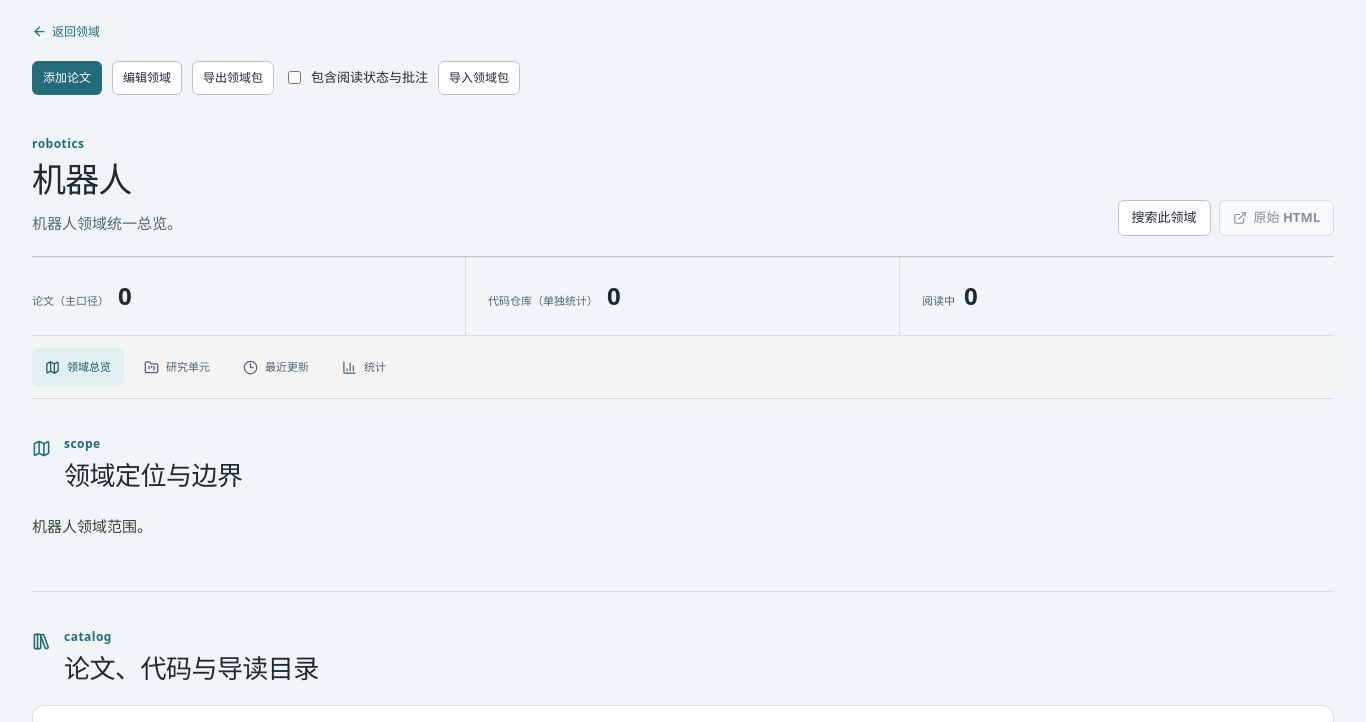
it: DomainDetailPage › uses empty-query aggregation, reports covered assets, and loads more pages
Step 1. Click the tab "研究单元" → (177, 367), box [131,348,223,386]
(page scrolled)
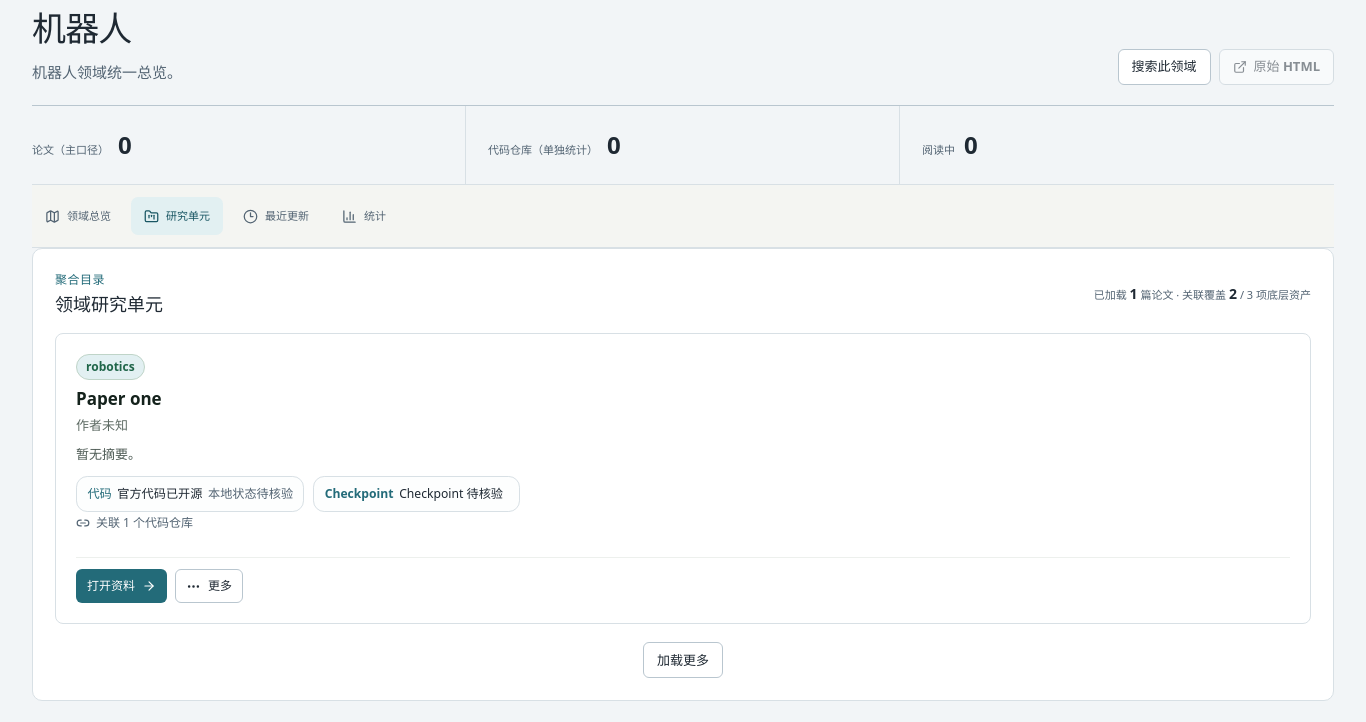
Expected: the heading "Paper one" is shown, [76,386,162,410]
Step 2. Click the button "加载更多" → (683, 660), box [643,642,723,678]
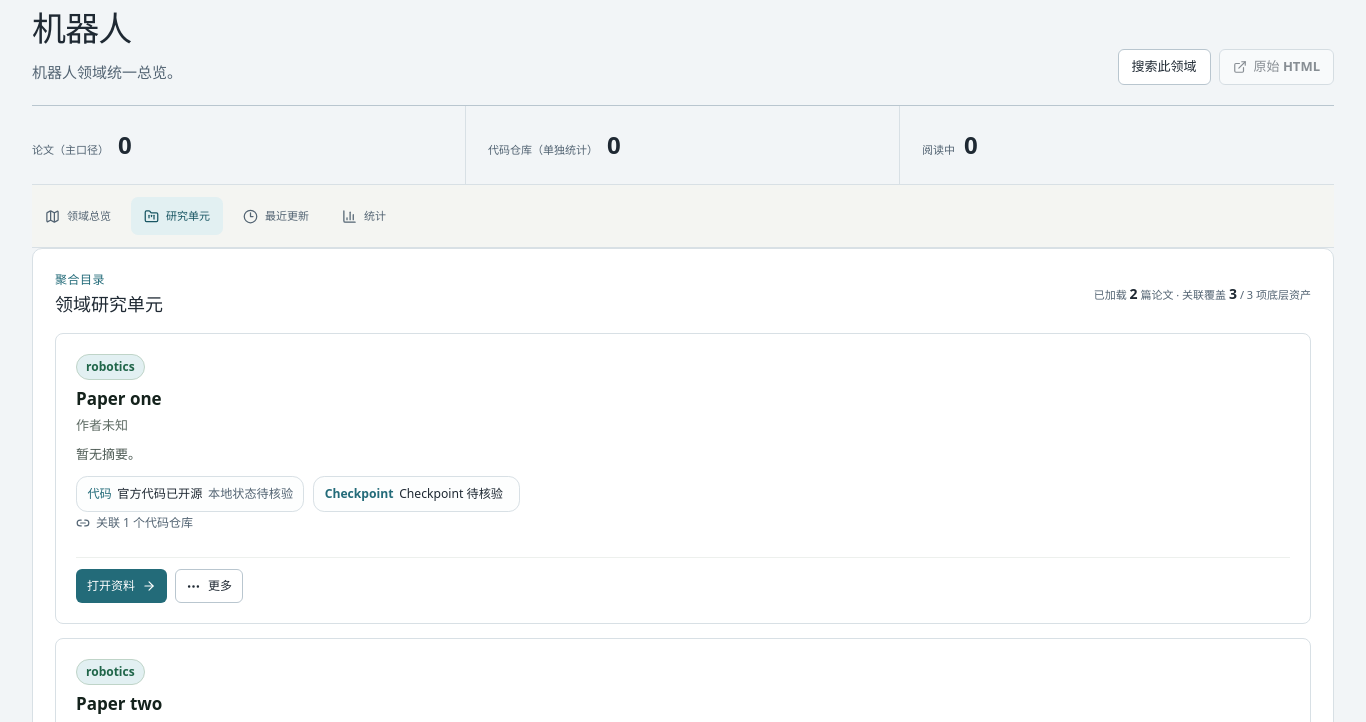
Expected: the heading "Paper two" is shown, [76,692,162,715]
Expected: the button "加载更多" is gone
Step 3. Click the tab "最近更新" → (276, 216), box [230,197,322,235]
(page scrolled)
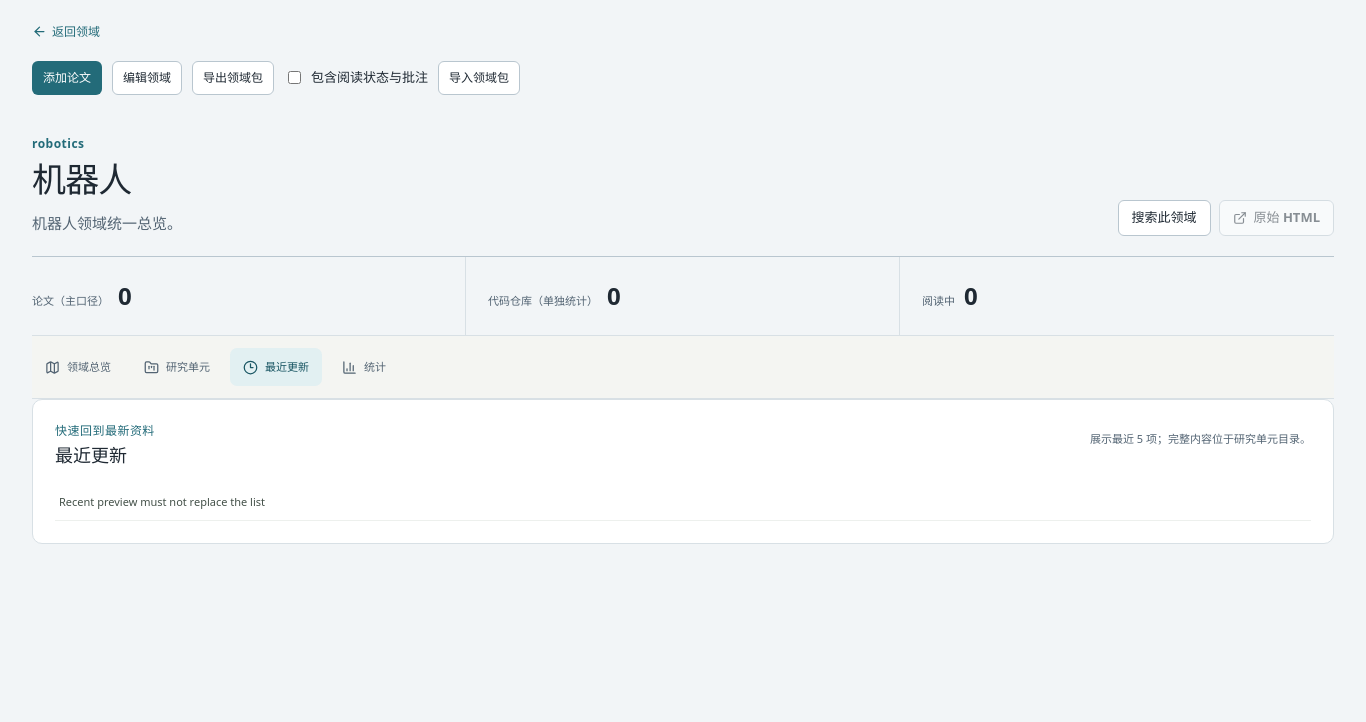
Expected: the heading "最近更新" is shown, [55,443,127,467]
Expected: the text "Recent preview must not replace the list" is shown, [59,494,265,510]
Expected: the text "展示最近 5 项；完整内容位于研究单元目录。" is shown, [1090,430,1311,447]
